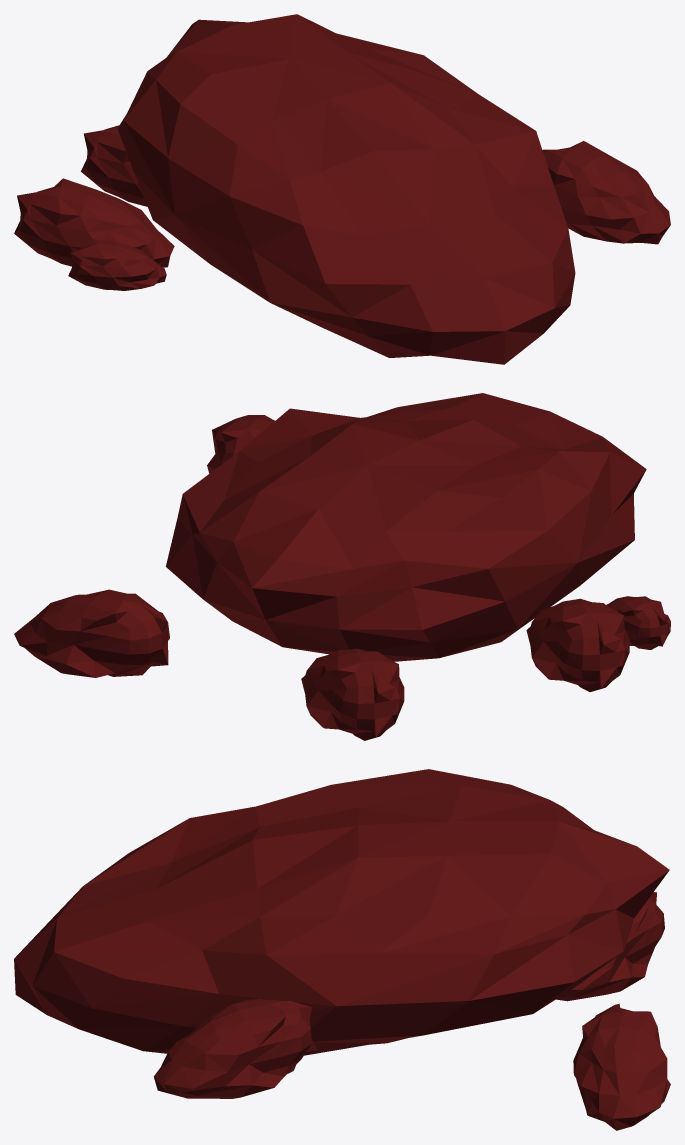
File: pedres.obj
3 views of the same model, one above another, from view 1: azimuth 30°, elevation 25°; view 2: azimuth 150°, elevation 25°; view 3: azimuth 270°, elevation 25° (orthographic). The views are drawn at different scales.
Bounding box in the file's own units: 2.59 × 0.9183 × 2.7.
